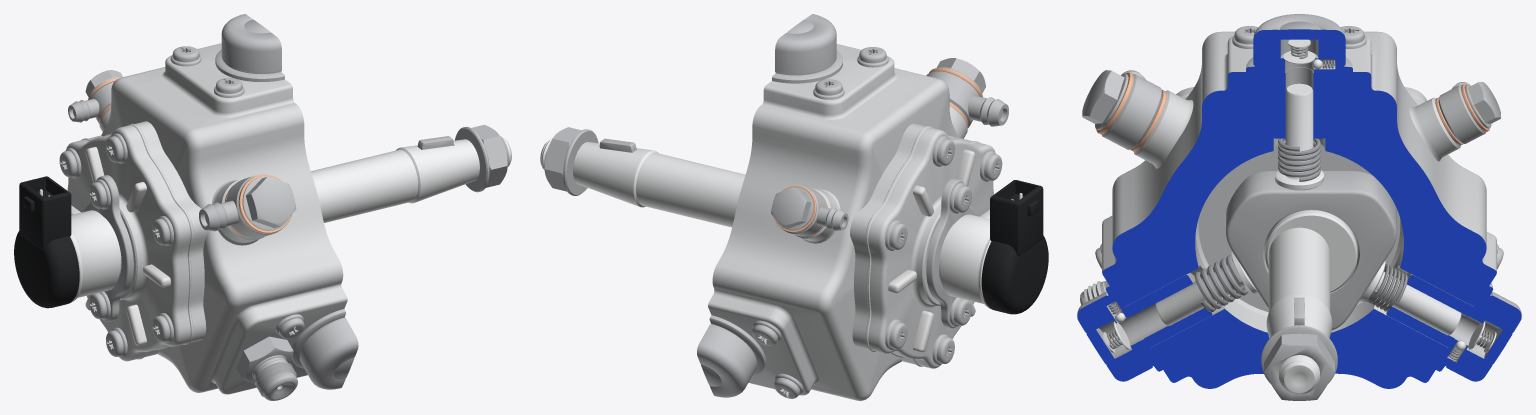
File: pompa-kesit-m.glb
The picture shows the model from 3 angles, left to right: view 1: azimuth 30°, elevation 25°; view 2: azimuth 150°, elevation 25°; view 3: azimuth 270°, elevation 25°; orthographic projection. The views are drawn at different scales.
Visible parts, largest first — view 1: govde, zme, mil_g, civata, giris, eleman_2, eleman_1, cikis, donus; view 2: govde, zme, mil_g, civata, eleman_3, eleman_1, giris, donus; view 3: govde, cokgen_g, mil_g, eleman_1, eleman_2, eleman_3, giris, donus, eksantrik_g, piston_1_g, piston_3_g, piston_2_g (+7 smaller).
Boxes of the visible parts, x1,y1,x2,y2 form: govde: (66, 43, 347, 394); zme: (14, 175, 133, 321); mil_g: (311, 124, 511, 222); civata: (59, 46, 304, 385); giris: (199, 174, 296, 238); eleman_2: (292, 309, 358, 389); eleman_1: (215, 14, 284, 81); cikis: (236, 336, 297, 400); donus: (68, 70, 122, 123); govde: (708, 44, 995, 400); zme: (926, 178, 1048, 328); mil_g: (540, 127, 745, 227); civata: (752, 47, 1002, 398); eleman_3: (697, 315, 765, 397); eleman_1: (772, 14, 842, 83); giris: (926, 58, 1008, 128); donus: (771, 185, 848, 236); govde: (1102, 31, 1496, 388); cokgen_g: (1226, 171, 1396, 330); mil_g: (1261, 227, 1337, 400); eleman_1: (1246, 14, 1352, 138); eleman_2: (1077, 273, 1212, 381); eleman_3: (1386, 273, 1521, 381); giris: (1082, 70, 1166, 151); donus: (1435, 82, 1500, 145); eksantrik_g: (1265, 210, 1357, 292); piston_1_g: (1275, 83, 1323, 190); piston_3_g: (1359, 260, 1461, 335); piston_2_g: (1155, 251, 1257, 325).
Bounding box in the file's own units: 18.57 × 11.6 × 13.
